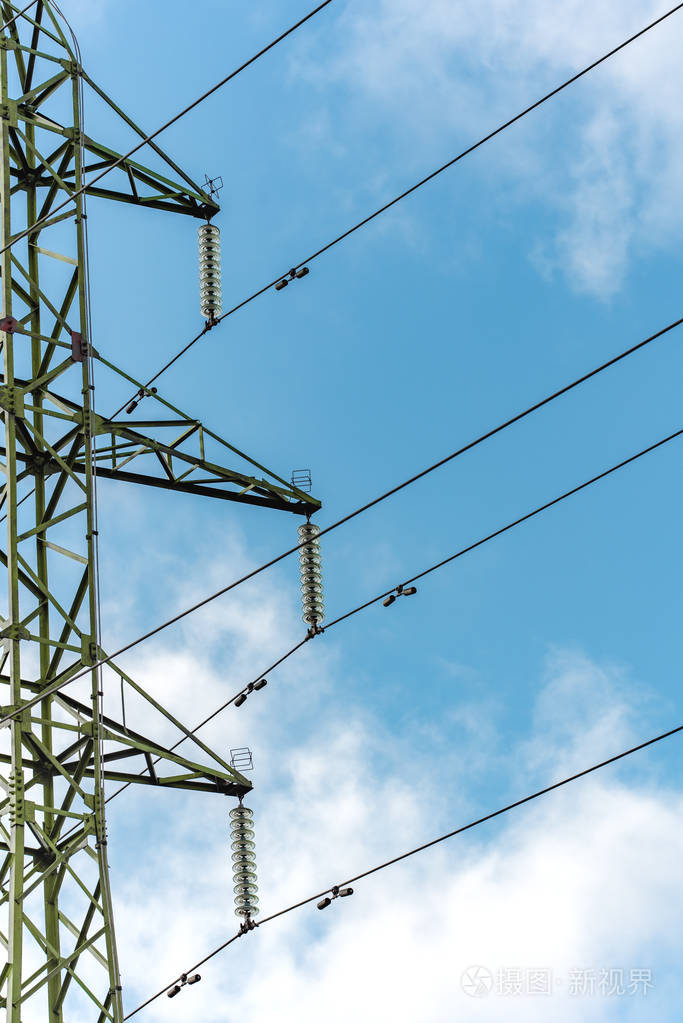insulator: (228, 806, 261, 917), (294, 525, 325, 623), (198, 221, 225, 314)
